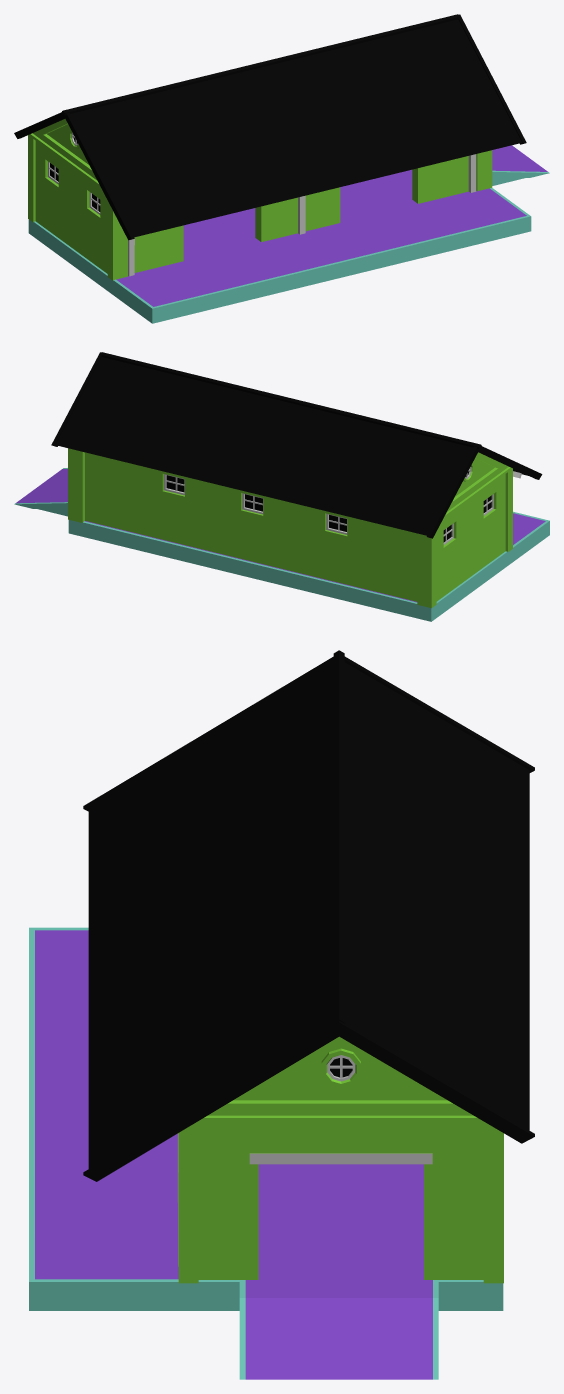
Rendered from SM_loading_building.fbx.
3 views of the same model, one above another, from view 1: azimuth 30°, elevation 25°; view 2: azimuth 150°, elevation 25°; view 3: azimuth 270°, elevation 25° (orthographic). The views are drawn at different scales.
Visible parts, largest first — view 1: Cube, Cube_2; view 2: Cube_2, Cube; view 3: Cube, Cube_2.
Boxes of the visible parts, x1=… form: Cube: x1=14, y1=14, x2=526, y2=240; Cube_2: x1=28, y1=119, x2=549, y2=323; Cube_2: x1=14, y1=448, x2=549, y2=621; Cube: x1=51, y1=352, x2=542, y2=538; Cube: x1=83, y1=650, x2=534, y2=1181; Cube_2: x1=29, y1=927, x2=503, y2=1379.
Bounding box in the file's own units: 2237 × 724 × 1111.
